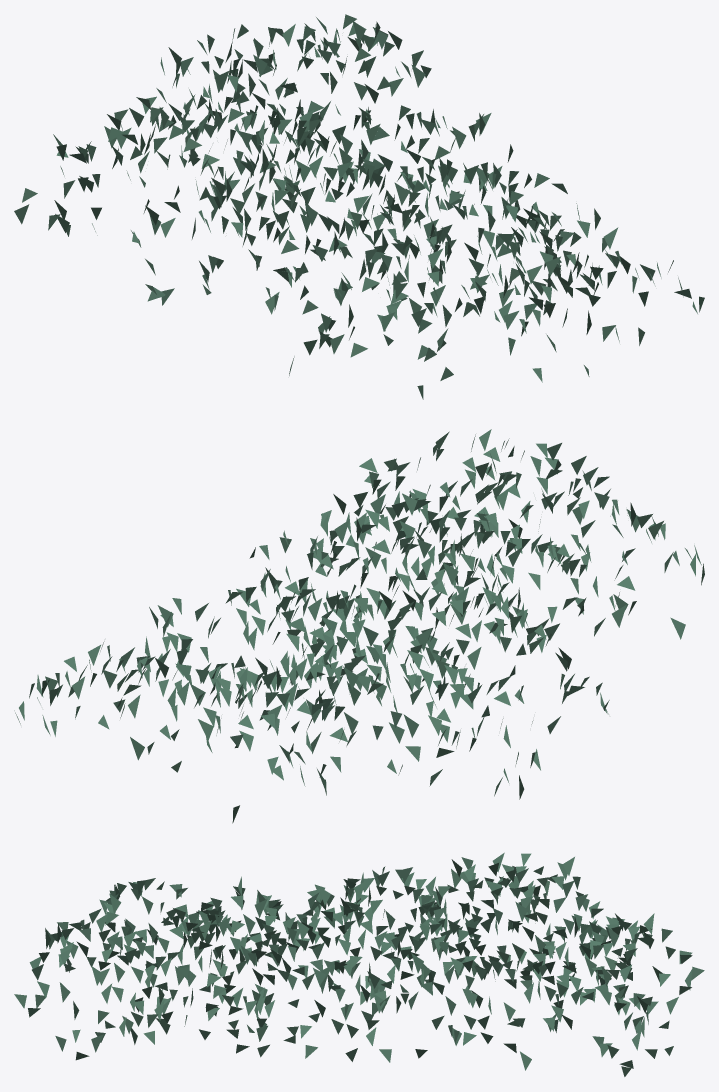
File: xiyuan-vegetation-31-medium.glb
3 views of the same model, one above another, from view 1: azimuth 30°, elevation 25°; view 2: azimuth 150°, elevation 25°; view 3: azimuth 270°, elevation 25° (orthographic). The views are drawn at different scales.
Visible parts, largest first — view 1: shrubs.001; view 2: shrubs.001; view 3: shrubs.001.
Part boxes in pixels (x1,y1,x2,y2): shrubs.001: [14, 14, 704, 399]; shrubs.001: [14, 429, 704, 823]; shrubs.001: [14, 852, 704, 1076].
Bounding box in the file's own units: 5.02 × 1.3 × 7.77.
